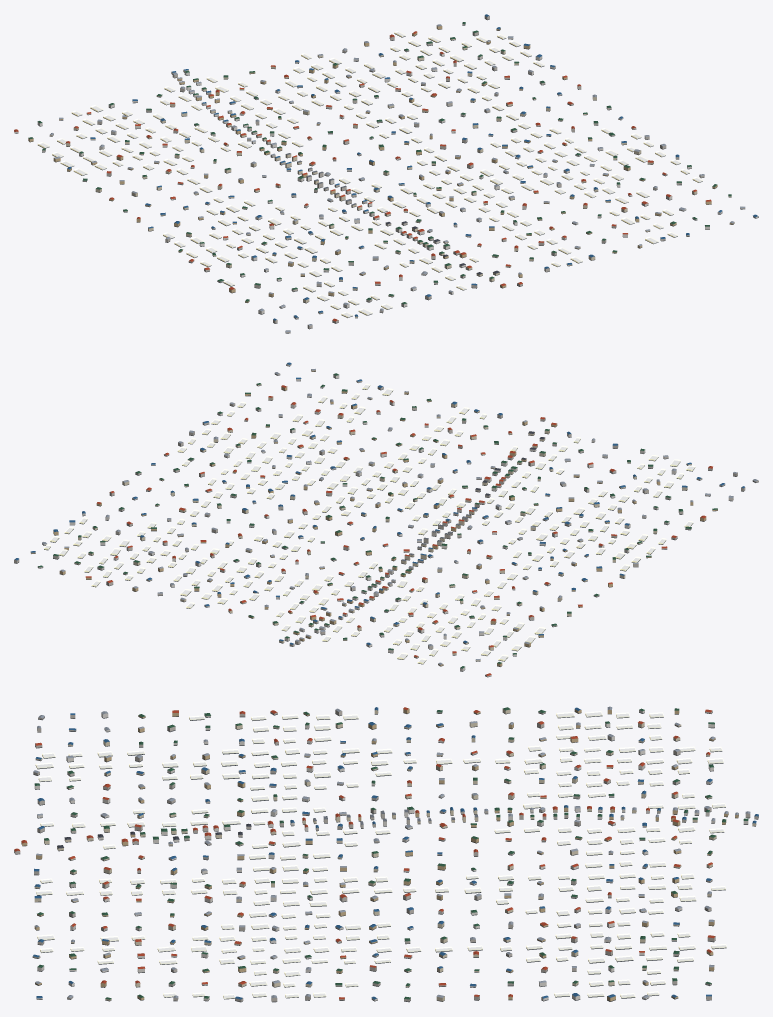
Rendered from buildings_T_W03_N00.glb.
The picture shows the model from 3 angles, top to bottom: view 1: azimuth 30°, elevation 25°; view 2: azimuth 150°, elevation 25°; view 3: azimuth 270°, elevation 25°; orthographic projection. The views are drawn at different scales.
Parts seen in each view (by area): view 1: T_W03_N00_roofs_agri_greenhouse_arch, T_W03_N00_slope_seating_foundations, T_W03_N00_walls_wall_dalat_cream_stucco, T_W03_N00_walls_wall_pastel_sand_gray, T_W03_N00_walls_wall_modern_warm_white, T_W03_N00_walls_wall_french_ochre_villa, T_W03_N00_roofs_roof_pine_green_hip, T_W03_N00_roofs_roof_terracotta_gable, T_W03_N00_roofs_roof_zinc_silver_gable, T_W03_N00_roofs_roof_highland_blue_gable; view 2: T_W03_N00_roofs_agri_greenhouse_arch, T_W03_N00_slope_seating_foundations, T_W03_N00_walls_wall_dalat_cream_stucco, T_W03_N00_walls_wall_pastel_sand_gray, T_W03_N00_walls_wall_french_ochre_villa, T_W03_N00_walls_wall_modern_warm_white, T_W03_N00_roofs_roof_pine_green_hip, T_W03_N00_roofs_roof_terracotta_gable, T_W03_N00_roofs_roof_zinc_silver_gable, T_W03_N00_roofs_roof_highland_blue_gable; view 3: T_W03_N00_roofs_agri_greenhouse_arch, T_W03_N00_slope_seating_foundations, T_W03_N00_walls_wall_dalat_cream_stucco, T_W03_N00_walls_wall_pastel_sand_gray, T_W03_N00_walls_wall_french_ochre_villa, T_W03_N00_walls_wall_modern_warm_white, T_W03_N00_roofs_roof_pine_green_hip, T_W03_N00_roofs_roof_terracotta_gable, T_W03_N00_roofs_roof_zinc_silver_gable, T_W03_N00_roofs_roof_highland_blue_gable.
Part boxes in pixels (x1,y1,x2,y2): T_W03_N00_roofs_agri_greenhouse_arch: (37, 31, 702, 317); T_W03_N00_slope_seating_foundations: (14, 18, 758, 333); T_W03_N00_walls_wall_dalat_cream_stucco: (49, 38, 731, 317); T_W03_N00_walls_wall_pastel_sand_gray: (83, 16, 745, 333); T_W03_N00_walls_wall_modern_warm_white: (14, 38, 758, 314); T_W03_N00_walls_wall_french_ochre_villa: (28, 25, 734, 302); T_W03_N00_roofs_roof_pine_green_hip: (28, 22, 731, 304); T_W03_N00_roofs_roof_terracotta_gable: (14, 31, 711, 321); T_W03_N00_roofs_roof_zinc_silver_gable: (50, 24, 745, 332); T_W03_N00_roofs_roof_highland_blue_gable: (67, 14, 758, 320); T_W03_N00_roofs_agri_greenhouse_arch: (44, 383, 695, 663); T_W03_N00_slope_seating_foundations: (14, 365, 758, 677); T_W03_N00_walls_wall_dalat_cream_stucco: (74, 380, 702, 661); T_W03_N00_walls_wall_pastel_sand_gray: (14, 373, 758, 649); T_W03_N00_walls_wall_french_ochre_villa: (30, 369, 717, 666); T_W03_N00_walls_wall_modern_warm_white: (42, 364, 733, 676); T_W03_N00_roofs_roof_pine_green_hip: (38, 373, 717, 668); T_W03_N00_roofs_roof_terracotta_gable: (85, 385, 712, 675); T_W03_N00_roofs_roof_zinc_silver_gable: (42, 369, 758, 664); T_W03_N00_roofs_roof_highland_blue_gable: (14, 362, 744, 645); T_W03_N00_roofs_agri_greenhouse_arch: (35, 711, 726, 998); T_W03_N00_slope_seating_foundations: (14, 711, 758, 1002); T_W03_N00_walls_wall_dalat_cream_stucco: (32, 709, 756, 1001); T_W03_N00_walls_wall_pastel_sand_gray: (14, 710, 758, 1001); T_W03_N00_walls_wall_french_ochre_villa: (21, 708, 738, 1001); T_W03_N00_walls_wall_modern_warm_white: (34, 710, 748, 1000); T_W03_N00_roofs_roof_pine_green_hip: (34, 707, 748, 999); T_W03_N00_roofs_roof_terracotta_gable: (14, 707, 715, 999); T_W03_N00_roofs_roof_zinc_silver_gable: (33, 706, 750, 998); T_W03_N00_roofs_roof_highland_blue_gable: (33, 707, 758, 999).
Bounding box in the file's own units: 1751 × 33.07 × 1909.
